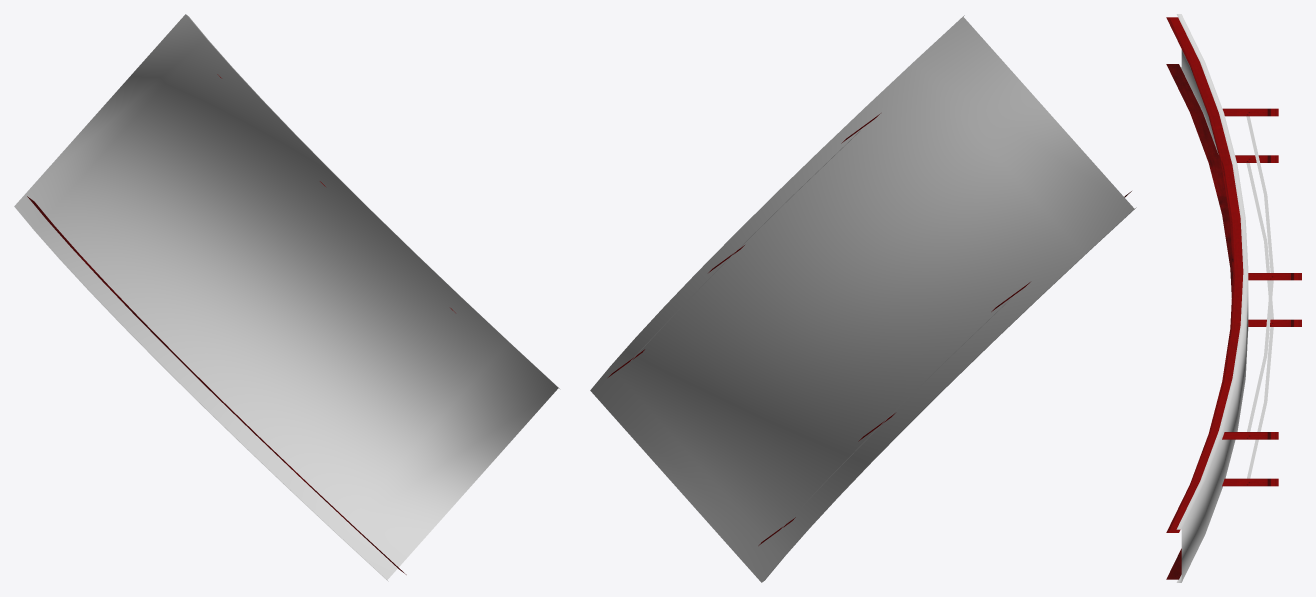
Rendered from bridge_LOD500.glb.
The picture shows the model from 3 angles, left to right: view 1: azimuth 30°, elevation 25°; view 2: azimuth 150°, elevation 25°; view 3: azimuth 270°, elevation 25°; orthographic projection. The views are drawn at different scales.
Visible parts, largest first — view 1: stktex_generic_WoodA.png__, JapanwoodBridge.jpg__; view 2: stktex_generic_WoodA.png__; view 3: stktex_generic_WoodA.png__, japanRedWood.jpg__, JapanwoodBridge.jpg__.
Boxes of the visible parts, <box> form: stktex_generic_WoodA.png__: <box>14,14,560,581</box>; JapanwoodBridge.jpg__: <box>27,196,406,574</box>; stktex_generic_WoodA.png__: <box>590,15,1136,582</box>; stktex_generic_WoodA.png__: <box>1176,14,1273,582</box>; japanRedWood.jpg__: <box>1166,17,1301,532</box>; JapanwoodBridge.jpg__: <box>1166,64,1232,579</box>.
Size of the model in its own units: 19.45 by 21.02 by 5.27.
3 materials, 2 textured.
